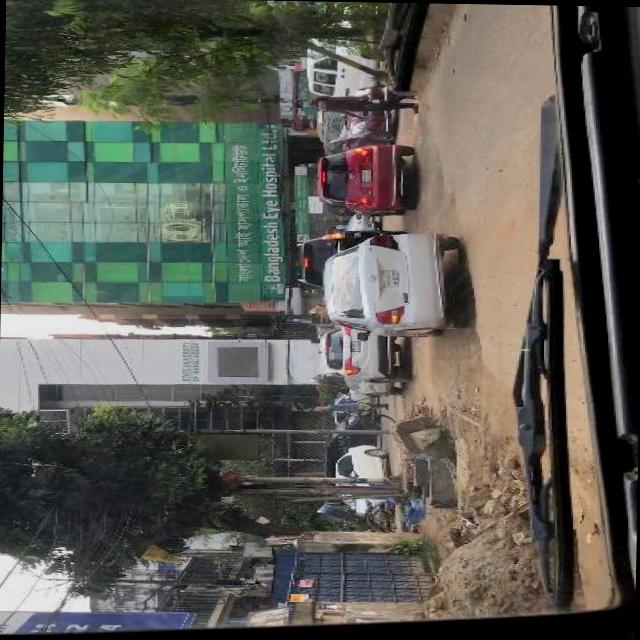car: (328, 230, 456, 340), (315, 142, 410, 218), (324, 328, 409, 396), (322, 86, 396, 150), (326, 446, 392, 511), (329, 389, 376, 427), (342, 214, 377, 232)
motorcycle: (312, 501, 397, 533)
truck: (292, 228, 400, 286), (310, 14, 384, 96)
